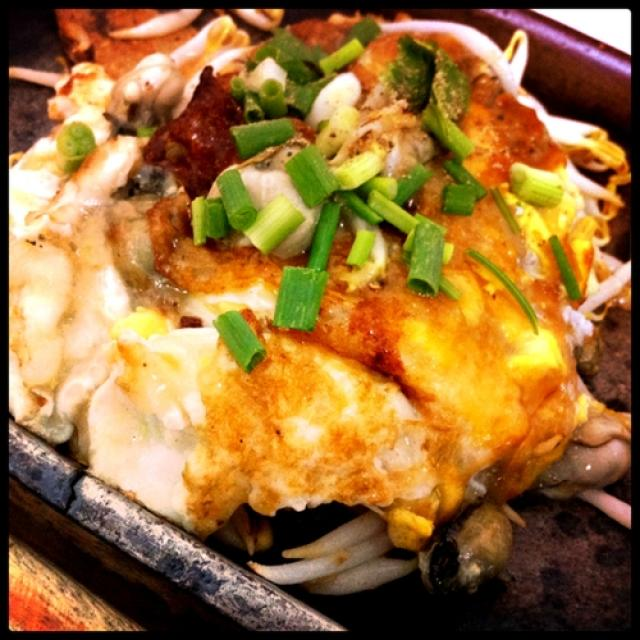炸货点心: (16, 13, 620, 618)
蛋糕甜品: (16, 13, 620, 618)
